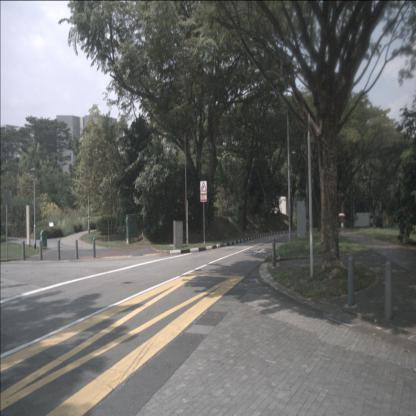human-pedestrian-adult: (339, 212, 345, 232)
